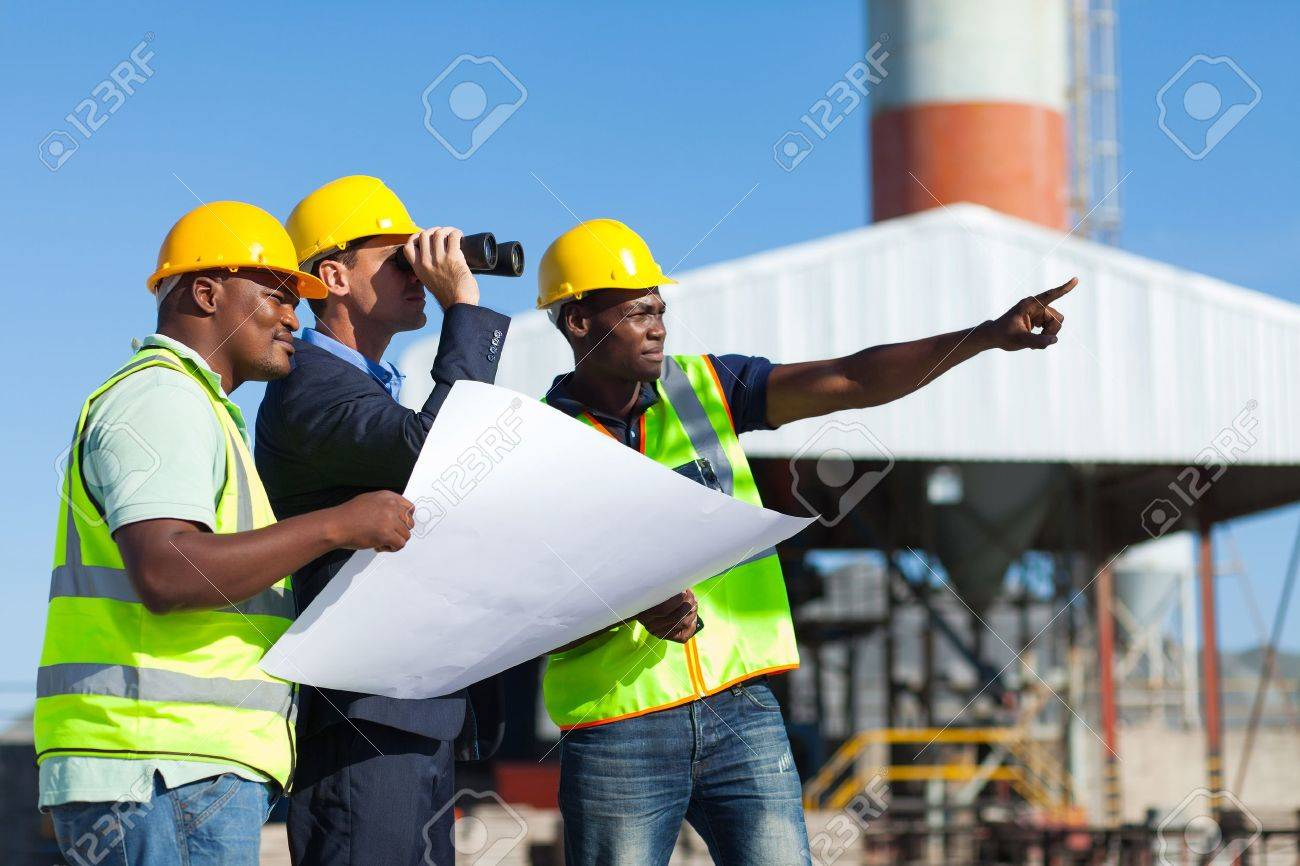With Helmet: (139, 193, 326, 398), (283, 169, 445, 348), (533, 208, 681, 389)
